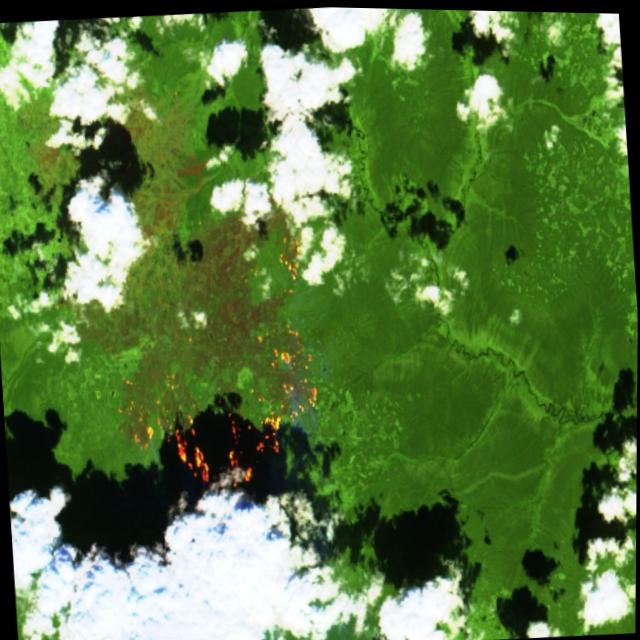fire: (108, 351, 329, 511), (237, 205, 323, 370)
